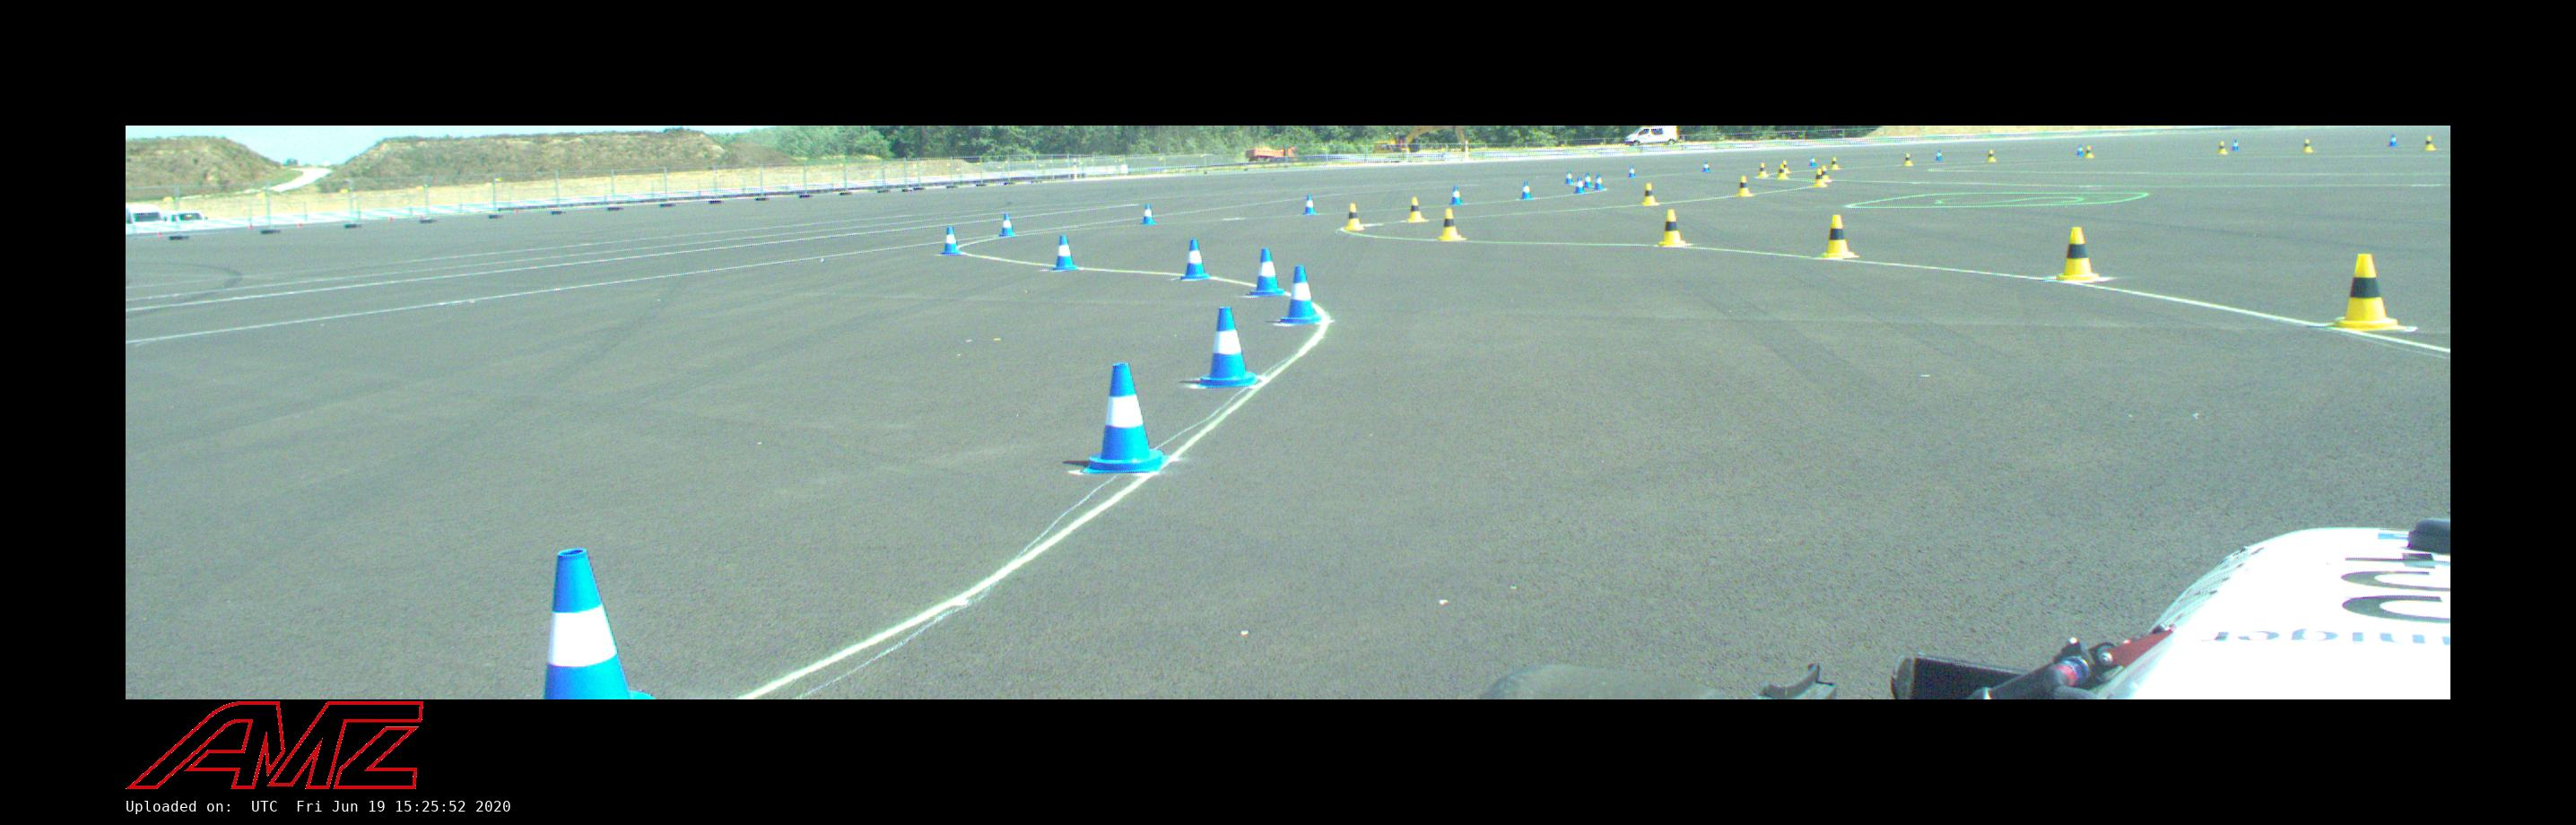blue_cone: (545, 547, 652, 698), (1084, 365, 1168, 473), (1198, 307, 1257, 386), (1281, 266, 1321, 322), (1250, 248, 1283, 296), (1180, 240, 1207, 279), (1053, 235, 1078, 271), (941, 227, 959, 255), (999, 214, 1014, 237), (1138, 205, 1157, 224), (1303, 194, 1316, 214), (1520, 181, 1533, 199), (1449, 186, 1462, 204), (1574, 176, 1585, 192), (1594, 174, 1605, 189), (1582, 173, 1594, 187), (2387, 133, 2399, 146), (1628, 164, 1636, 177), (2077, 143, 2085, 156), (1566, 171, 1574, 184), (1809, 154, 1817, 166), (2231, 140, 2239, 151), (1935, 150, 1944, 161), (1704, 161, 1710, 171)
yellow_cone: (2328, 255, 2400, 330), (2050, 227, 2101, 283), (1815, 215, 1856, 258), (1658, 212, 1686, 247), (1438, 209, 1462, 240), (1344, 204, 1364, 230), (1406, 197, 1423, 220), (1641, 182, 1658, 204), (1737, 176, 1751, 196), (1817, 164, 1830, 182), (2423, 135, 2436, 151), (1814, 168, 1824, 186), (1756, 163, 1769, 176), (2302, 138, 2315, 151), (1828, 156, 1840, 169), (1904, 153, 1914, 166), (2218, 141, 2228, 154), (1986, 150, 1996, 163), (2085, 146, 2095, 158), (1778, 166, 1787, 177), (1781, 161, 1789, 173)
